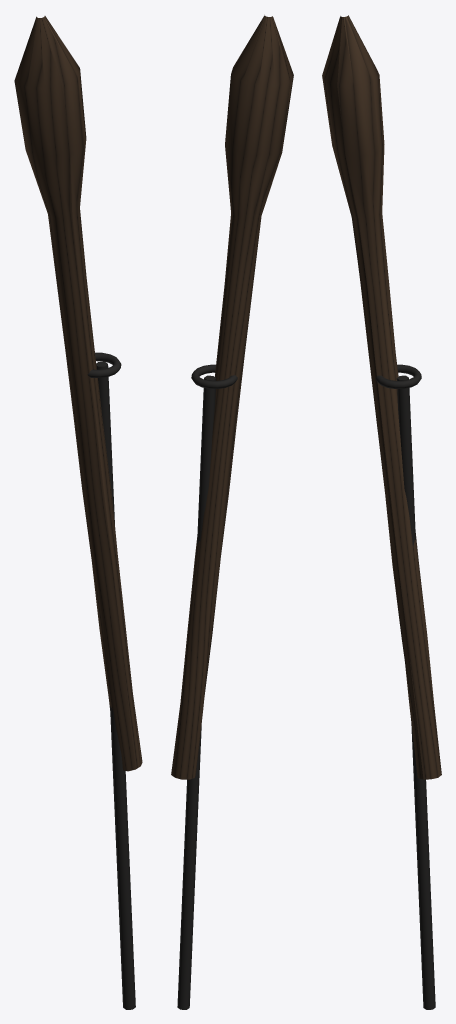
The model's file is torch_L1.glb.
3 renders of one model, left to right at view 1: azimuth 30°, elevation 25°; view 2: azimuth 210°, elevation 25°; view 3: azimuth 330°, elevation 25°, orthographic. The views are drawn at different scales.
Parts seen in each view (by area): view 1: torch, spike, ring; view 2: torch, spike, ring; view 3: torch, spike, ring.
Boxes of the visible parts, bbox=[...] form: torch: bbox=[14, 16, 142, 771]; spike: bbox=[96, 361, 135, 1009]; ring: bbox=[87, 352, 121, 377]; torch: bbox=[171, 15, 293, 779]; spike: bbox=[177, 375, 216, 1009]; ring: bbox=[191, 364, 237, 388]; torch: bbox=[322, 15, 441, 779]; spike: bbox=[396, 375, 435, 1009]; ring: bbox=[375, 364, 421, 388].
Bounding box in the file's own units: 0.1303 × 1.04 × 0.0541.
Materials: 2 (1 with a texture image).
